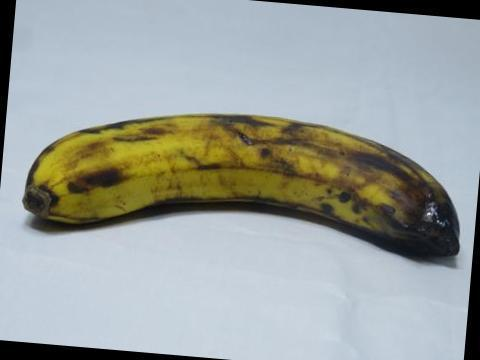overripe: (12, 99, 476, 272)
